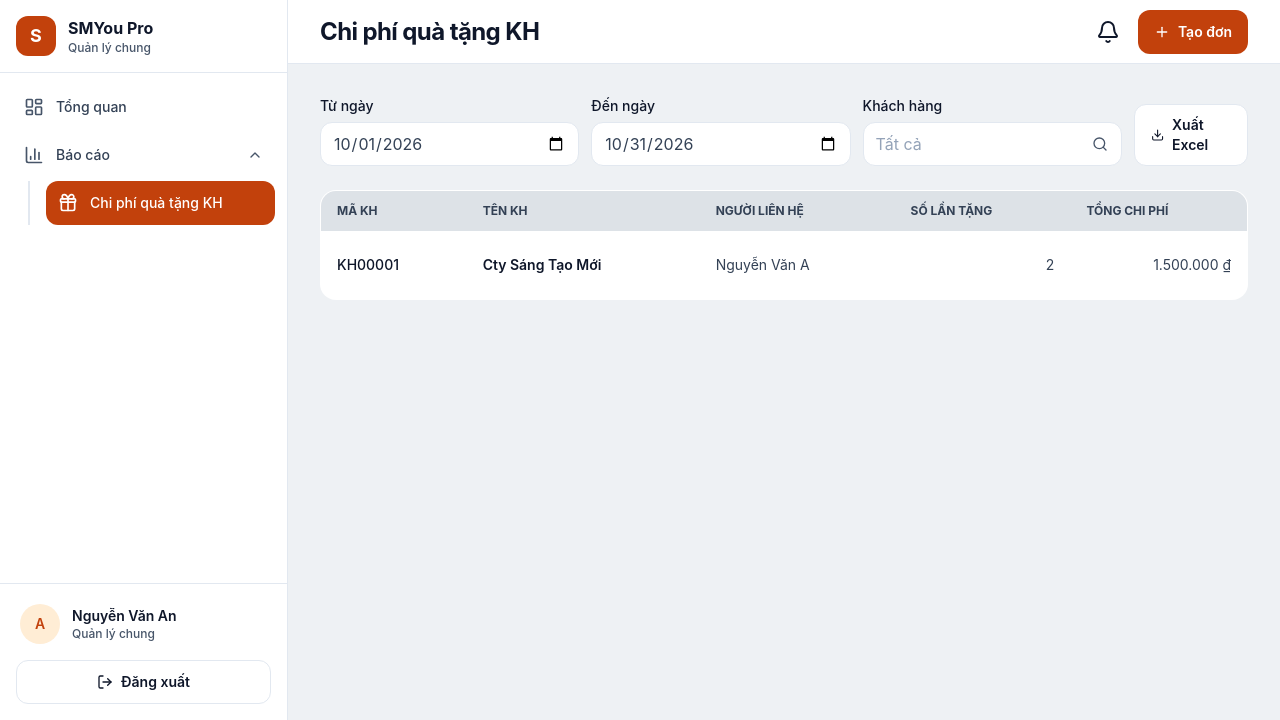
Test: Báo cáo chi phí quà tặng KH › AC-GFT-041 bấm 1 dòng → drilldown hiện đúng danh sách lần tặng
The width and height of the screenshot is (1280, 720).
Click the button "Cty Sáng Tạo Mới": x=542, y=265 [483, 243, 601, 287]
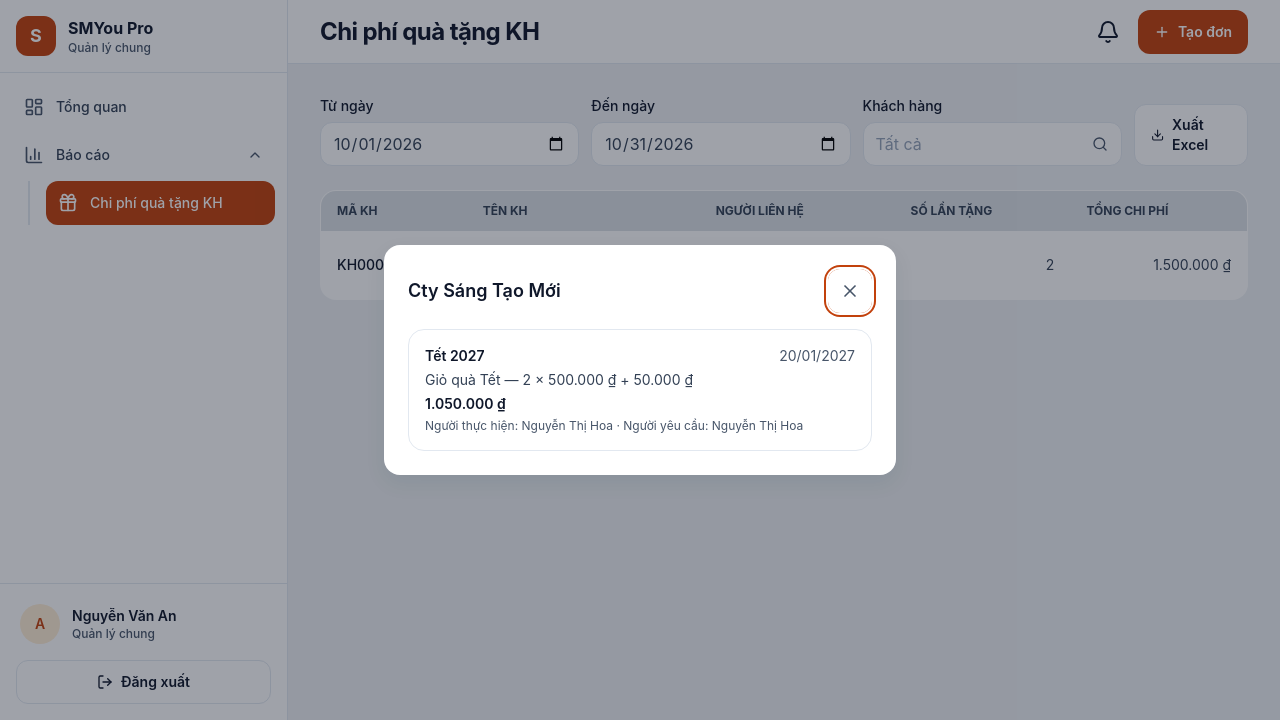
Result: the text "Tết 2027" is shown at [425, 346, 485, 366]
Result: the text "Giỏ quà Tết — 2 × 500.000 ₫ + 50.000 ₫" is shown at [425, 371, 693, 388]
